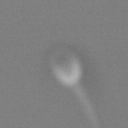normal: (74, 82, 99, 128)
